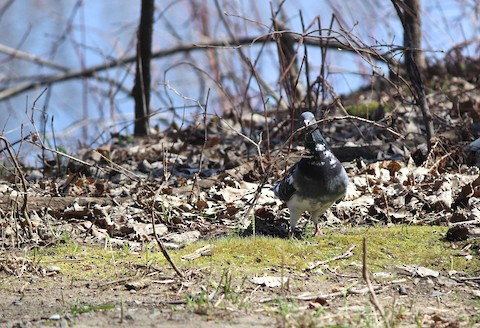pigeon: (270, 108, 353, 243)
